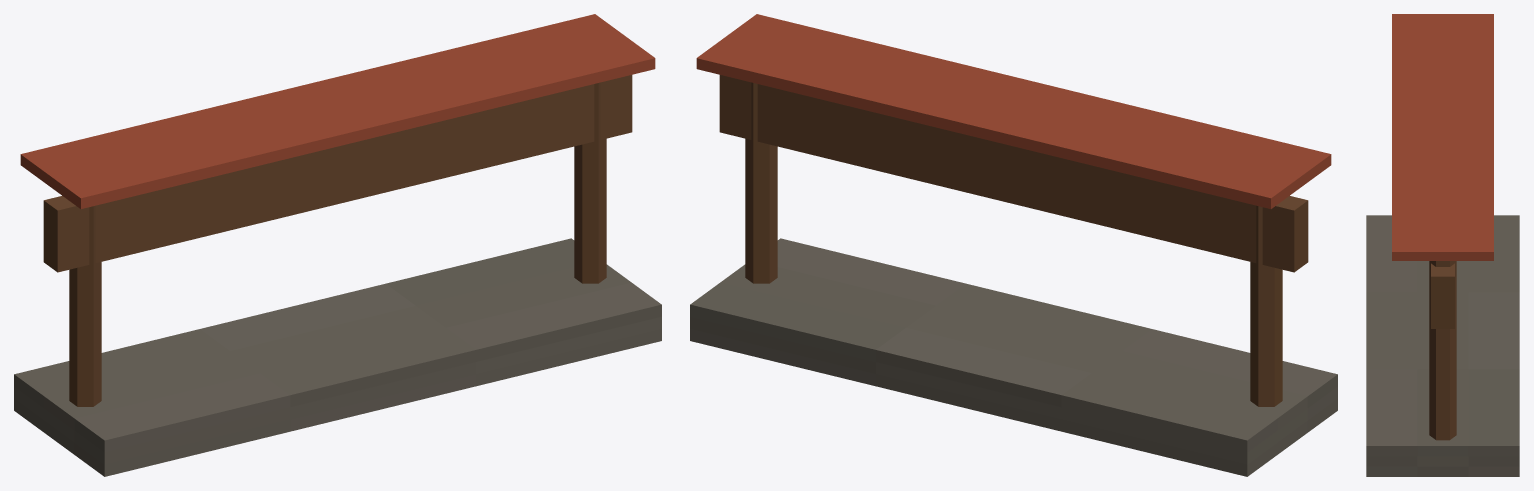
The model's file is control-station.glb.
The picture shows the model from 3 angles, left to right: view 1: azimuth 30°, elevation 25°; view 2: azimuth 150°, elevation 25°; view 3: azimuth 270°, elevation 25°; orthographic projection. The views are drawn at different scales.
Visible parts, largest first — view 1: control-station; view 2: control-station; view 3: control-station.
Boxes of the visible parts, x1,y1,x2,y2 form: control-station: (14,14,661,476); control-station: (690,14,1337,476); control-station: (1366,14,1519,476).
Bounding box in the file's own units: 3.3 × 1.48 × 0.9001.
